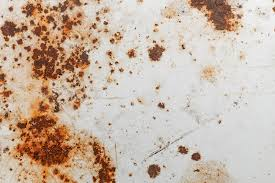rust: (3, 1, 93, 109), (13, 112, 82, 167), (83, 133, 126, 183), (188, 1, 245, 34), (100, 48, 128, 77), (142, 158, 167, 181), (146, 38, 167, 64), (178, 143, 202, 163)
